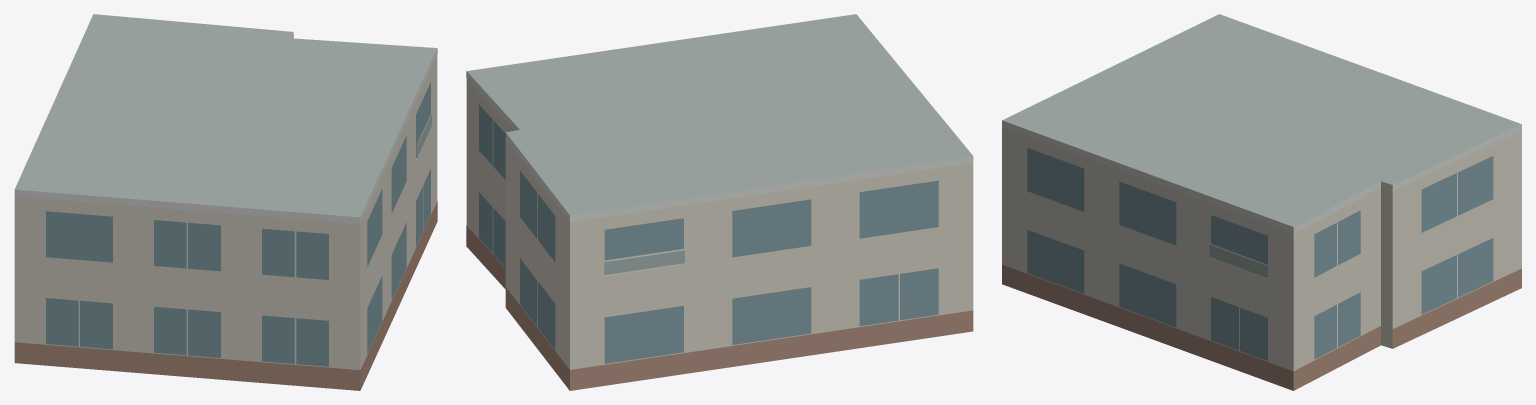
The model's file is survey-upis-32885990.glb.
3 renders of one model, left to right at view 1: azimuth 30°, elevation 25°; view 2: azimuth 150°, elevation 25°; view 3: azimuth 270°, elevation 25°, orthographic. The views are drawn at different scales.
Visible parts, largest first — view 1: survey-upis-32885990.tmp; view 2: survey-upis-32885990.tmp; view 3: survey-upis-32885990.tmp.
Part boxes in pixels (<box>): survey-upis-32885990.tmp: <box>14,14,437,390</box>; survey-upis-32885990.tmp: <box>466,14,973,390</box>; survey-upis-32885990.tmp: <box>1002,14,1521,390</box>.
Size of the model in its own units: 17.01 by 6.1 by 17.54.
